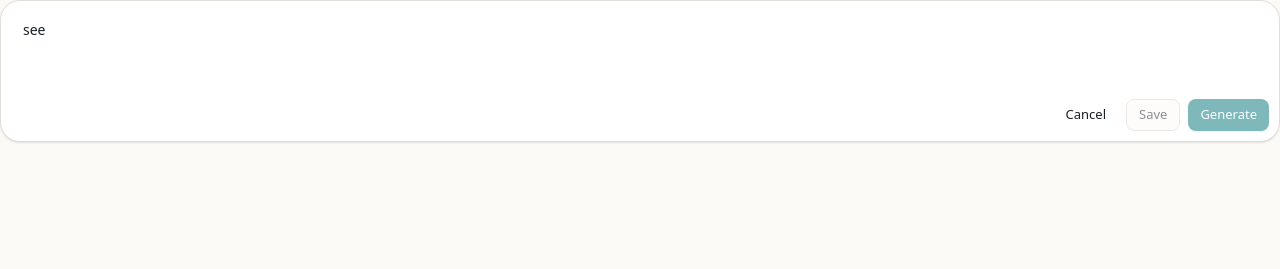
EditBox shortcuts and menus › offers the model menu for @ while editing, and nothing for plain text
The width and height of the screenshot is (1280, 269).
Type "plain" into the text box at (640, 51), box 11,11 -> 1269,91
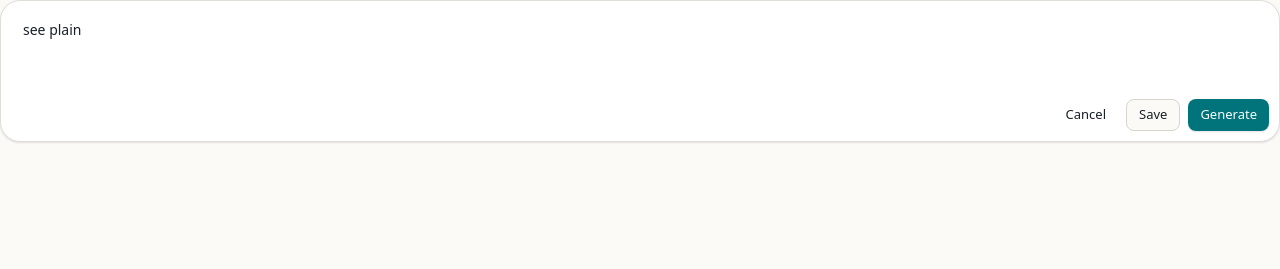
Type " @al" into the text box at (640, 51), box 11,11 -> 1269,91
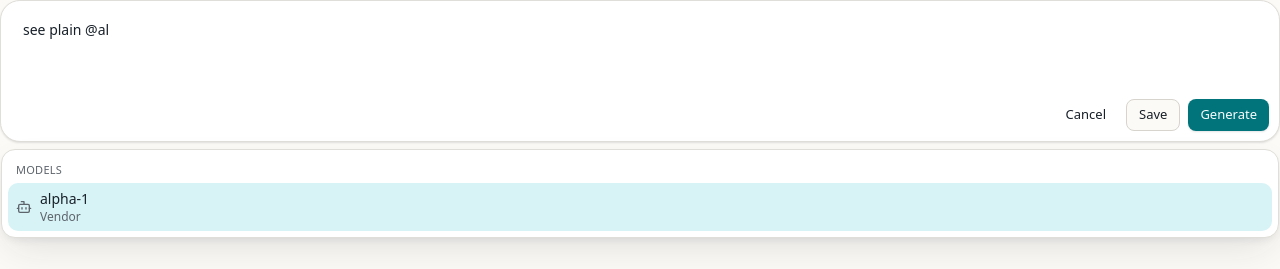
Click the option "alpha-1 Vendor" at (65, 198), box 8,182 -> 1272,230
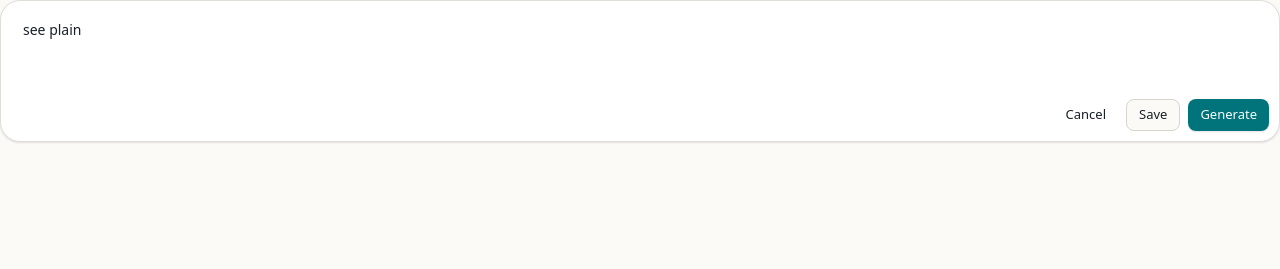
Expected: the text box holds "see plain ", 11,11 -> 1269,91
